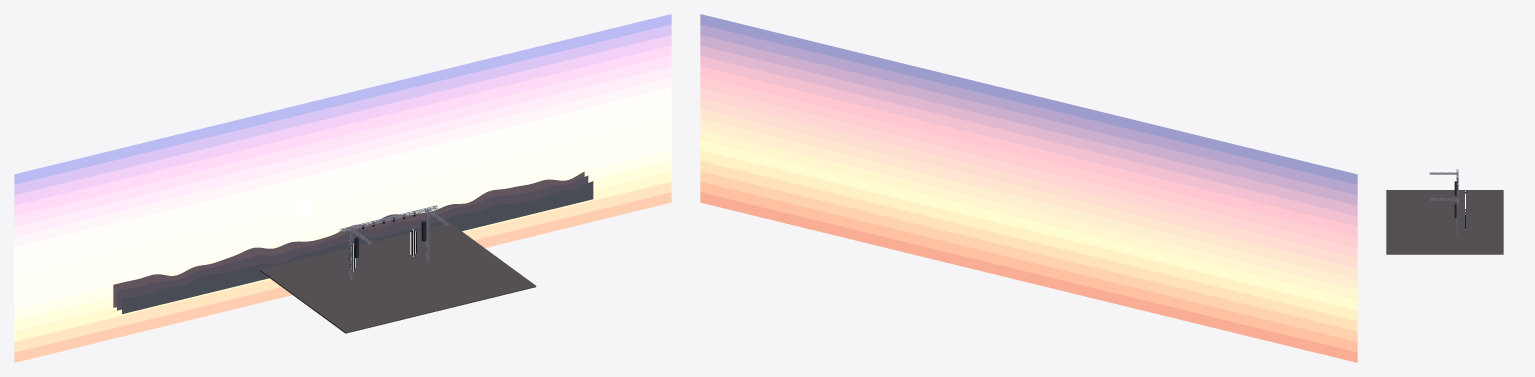
File: VenueFestival.fbx
3 views of the same model, side by side, from view 1: azimuth 30°, elevation 25°; view 2: azimuth 150°, elevation 25°; view 3: azimuth 270°, elevation 25° (orthographic). The views are drawn at different scales.
Visible parts, largest first — view 1: VenueFestival; view 2: VenueFestival; view 3: VenueFestival.
Boxes of the visible parts, left/top/right/bottom form: VenueFestival: left=14, top=14, right=671, bottom=362; VenueFestival: left=700, top=14, right=1357, bottom=362; VenueFestival: left=1386, top=169, right=1518, bottom=254.
Bounding box in the file's own units: 62 × 16 × 17.
